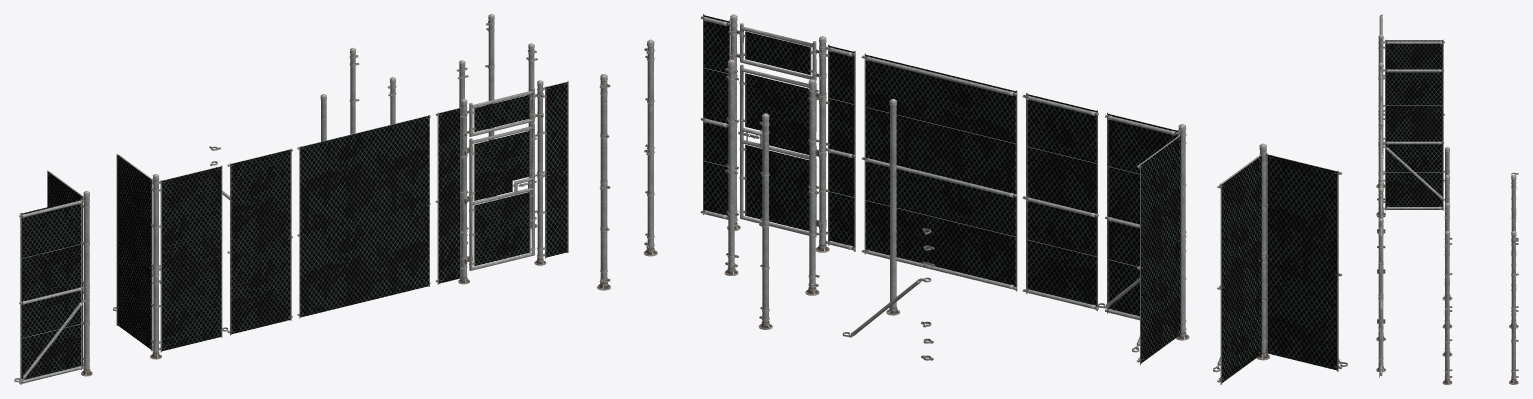
File: modular_chainlink_fence.glb
The picture shows the model from 3 angles, left to right: view 1: azimuth 30°, elevation 25°; view 2: azimuth 150°, elevation 25°; view 3: azimuth 270°, elevation 25°; orthographic projection. The views are drawn at different scales.
Visible parts, largest first — view 1: modular_chainlink_fence_door_gate, modular_chainlink_fence_door_latch; view 2: modular_chainlink_fence_door_gate, modular_chainlink_fence_door_latch; view 3: modular_chainlink_fence_door_gate, modular_chainlink_fence_door_latch.
Boxes of the visible parts, x1=… form: modular_chainlink_fence_door_gate: x1=21, y1=82, x2=567, y2=379; modular_chainlink_fence_door_latch: x1=14, y1=14, x2=568, y2=384; modular_chainlink_fence_door_gate: x1=704, y1=15, x2=1336, y2=382; modular_chainlink_fence_door_latch: x1=597, y1=14, x2=1347, y2=384; modular_chainlink_fence_door_gate: x1=1386, y1=40, x2=1442, y2=209; modular_chainlink_fence_door_latch: x1=1376, y1=14, x2=1518, y2=384.
Bounding box in the file's own units: 8.12 × 2.52 × 2.15.
2 materials, 2 textured.
